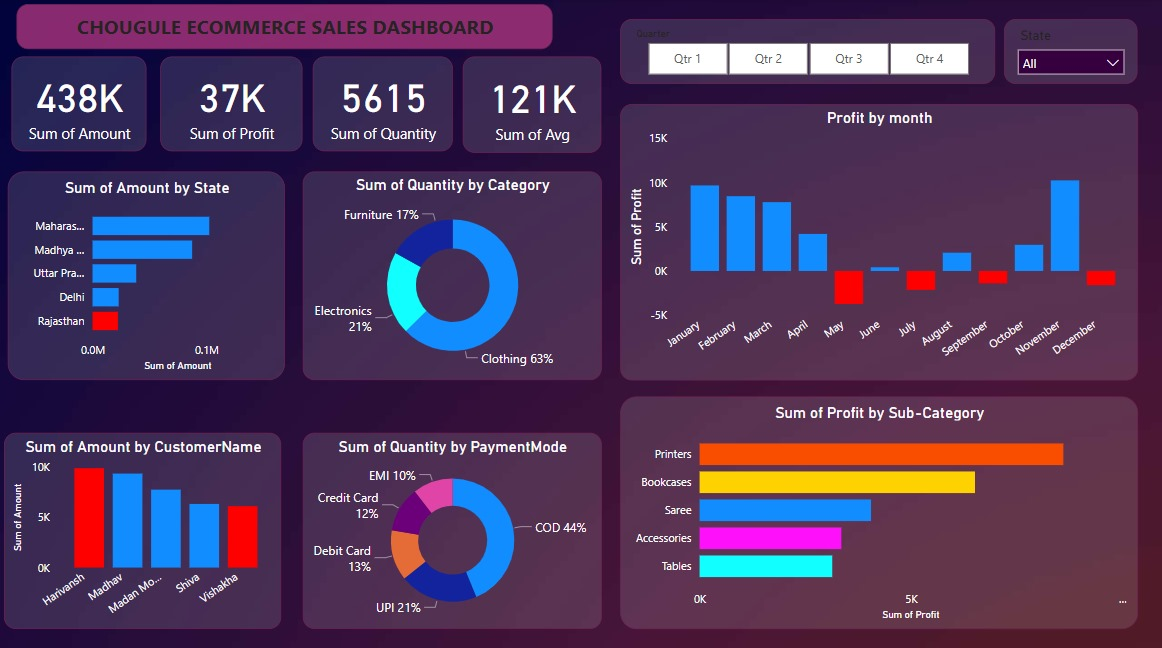

The dashboard page shown, as its layout file describes it:
{"tool":"powerbi","page":{"name":"Page 1","canvas":[1280,720],"ordinal":0},"visuals":[{"type":"textbox","box":[19.2,5.5,588.2,49.4],"z":0},{"type":"columnChart","title":"Profit by month","fields":{"Category":["Orders.Order Date.Variation.Date Hierarchy.Month"],"Y":["Sum(Details.Profit)"]},"box":[681.4,115.2,567.6,303],"z":1000},{"type":"barChart","fields":{"Category":["Details.Sub-Category"],"Y":["Sum(Details.Profit)"]},"box":[681.4,436,567.6,255],"z":2000},{"type":"donutChart","fields":{"Category":["Details.Category"],"Y":["Sum(Details.Quantity)"]},"box":[333.2,189.2,327.7,229],"z":3000},{"type":"donutChart","fields":{"Category":["Details.PaymentMode"],"Y":["Sum(Details.Quantity)"]},"box":[333.2,475.8,327.7,215.3],"z":4000},{"type":"card","fields":{"Values":["Sum(Details.Amount)"]},"box":[13.7,63.1,148.1,104.2],"z":5000},{"type":"card","fields":{"Values":["Sum(Details.Profit)"]},"box":[176.9,63.1,156.3,104.2],"z":6000},{"type":"card","fields":{"Values":["Sum(Details.Quantity)"]},"box":[344.1,63.1,153.6,104.2],"z":7000},{"type":"card","fields":{"Values":["Sum(Details.Avg)"]},"box":[508.7,63.1,152.2,105.6],"z":8000},{"type":"barChart","fields":{"Category":["Orders.State"],"Y":["Sum(Details.Amount)"]},"box":[9.6,189.2,304.4,229],"z":9000},{"type":"columnChart","fields":{"Category":["Orders.CustomerName"],"Y":["Sum(Details.Amount)"]},"box":[5.5,475.8,304.4,215.3],"z":10000},{"type":"slicer","fields":{"Values":["Orders.Order Date.Variation.Date Hierarchy.Quarter"]},"box":[681.4,21.9,411.3,71.3],"z":11000},{"type":"slicer","fields":{"Values":["Orders.State"]},"box":[1102.3,21.9,146.7,71.3],"z":12000}]}

Visuals, with their boxes in screenshot pixels (x1, y1, x2, y2), scaled from the page's 1280x720 canvas onto the 1162x648 screenshot:
textbox: <region>17, 5, 551, 49</region>
"Profit by month" columnChart: <region>619, 104, 1134, 376</region>
barChart - Details.Sub-Category x Sum(Details.Profit): <region>619, 392, 1134, 622</region>
donutChart - Details.Category x Sum(Details.Quantity): <region>302, 170, 600, 376</region>
donutChart - Details.PaymentMode x Sum(Details.Quantity): <region>302, 428, 600, 622</region>
card - Sum(Details.Amount): <region>12, 57, 147, 151</region>
card - Sum(Details.Profit): <region>161, 57, 302, 151</region>
card - Sum(Details.Quantity): <region>312, 57, 452, 151</region>
card - Sum(Details.Avg): <region>462, 57, 600, 152</region>
barChart - Orders.State x Sum(Details.Amount): <region>9, 170, 285, 376</region>
columnChart - Orders.CustomerName x Sum(Details.Amount): <region>5, 428, 281, 622</region>
slicer - Orders.Order Date.Variation.Date Hierarchy.Quarter: <region>619, 20, 992, 84</region>
slicer - Orders.State: <region>1001, 20, 1134, 84</region>
